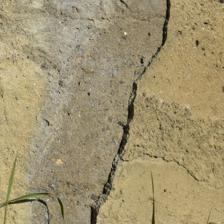Crack: (32, 59, 142, 153), (0, 73, 196, 109)
